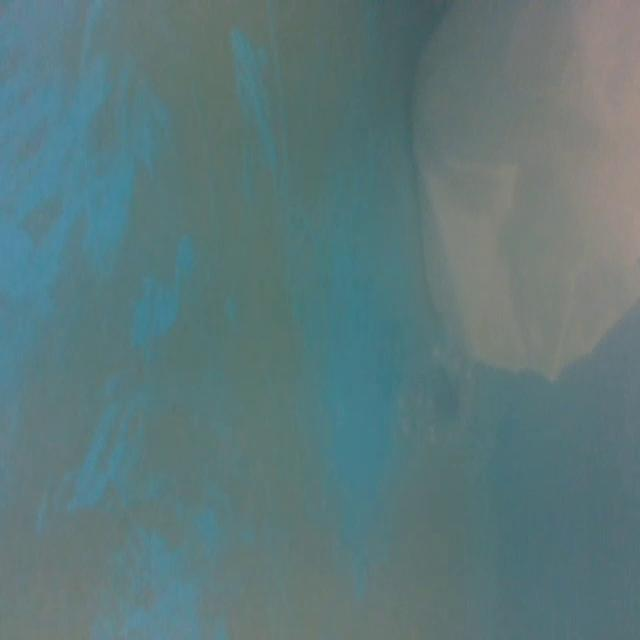plastic bags: (403, 1, 640, 382)
